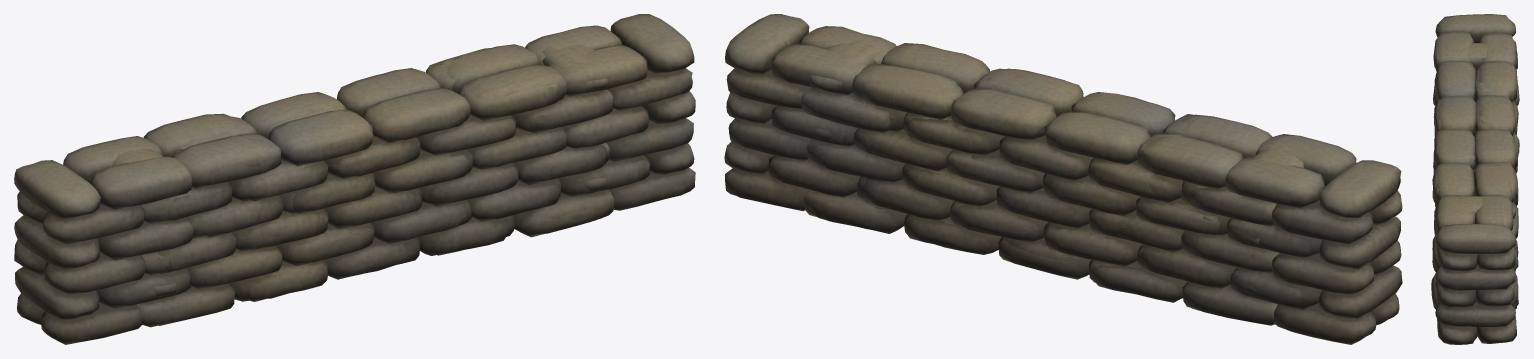
Rendered from sandbag.glb.
3 views of the same model, side by side, from view 1: azimuth 30°, elevation 25°; view 2: azimuth 150°, elevation 25°; view 3: azimuth 270°, elevation 25° (orthographic). The views are drawn at different scales.
Visible parts, largest first — view 1: len_4, len_3; view 2: len_4, len_3; view 3: len_4, len_3.
Boxes of the visible parts, box(x1,y1,x2,y2) form: len_4: box(14, 14, 695, 344); len_3: box(112, 44, 614, 327); len_4: box(724, 14, 1402, 344); len_3: box(801, 39, 1303, 325); len_4: box(1431, 14, 1519, 344); len_3: box(1432, 43, 1519, 309).
Bounding box in the file's own units: 4.04 × 0.9147 × 0.6588.
2 materials, 2 textured.
